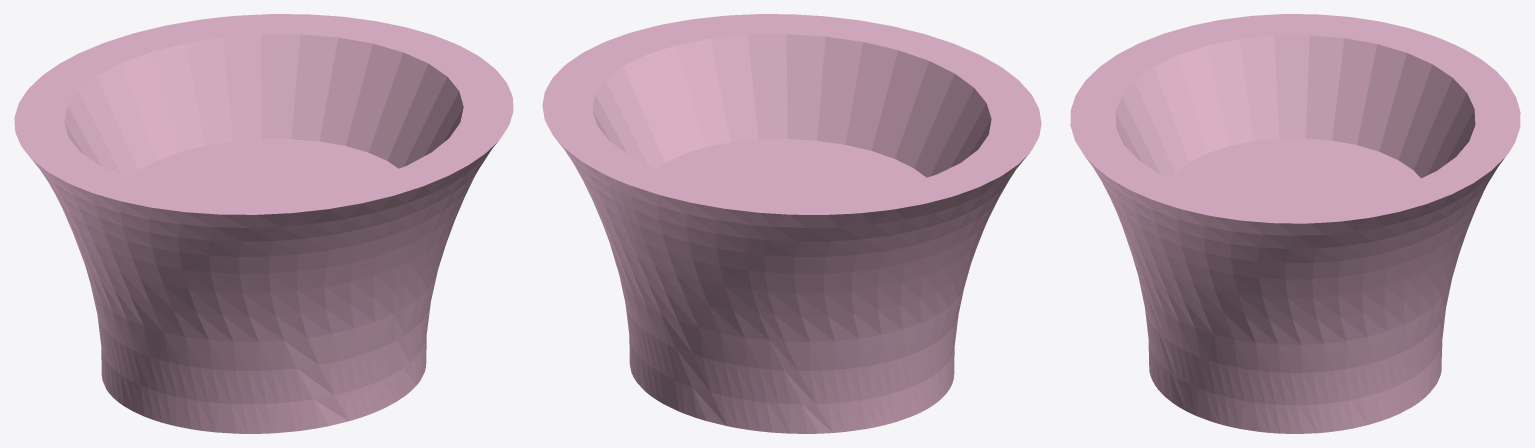
The model's file is Cup1.dae.
3 views of the same model, side by side, from view 1: azimuth 30°, elevation 25°; view 2: azimuth 150°, elevation 25°; view 3: azimuth 270°, elevation 25° (orthographic). The views are drawn at different scales.
Visible parts, largest first — view 1: Cup; view 2: Cup; view 3: Cup.
Boxes of the visible parts, x1,y1,x2,y2 form: Cup: (14,14,513,433); Cup: (542,14,1041,433); Cup: (1070,14,1520,433).
Bounding box in the file's own units: 0.0462 × 0.0419 × 0.0254.
